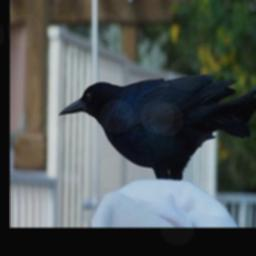Crow: (57, 72, 256, 178)
